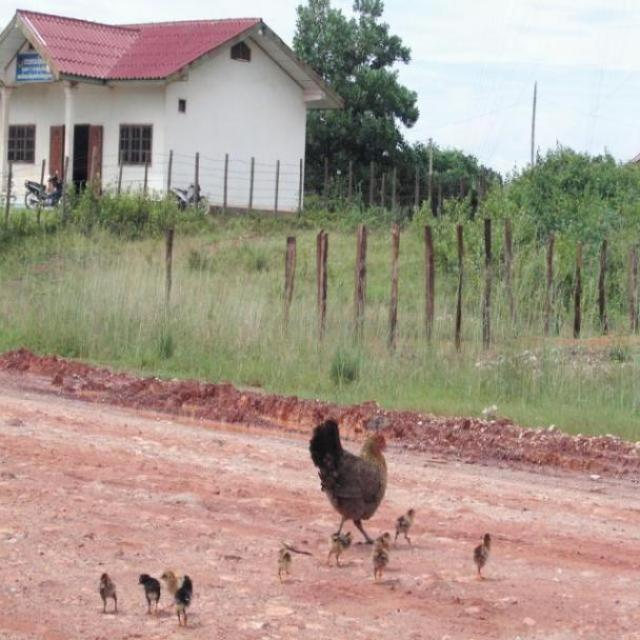Chicken: (304, 418, 396, 560)
